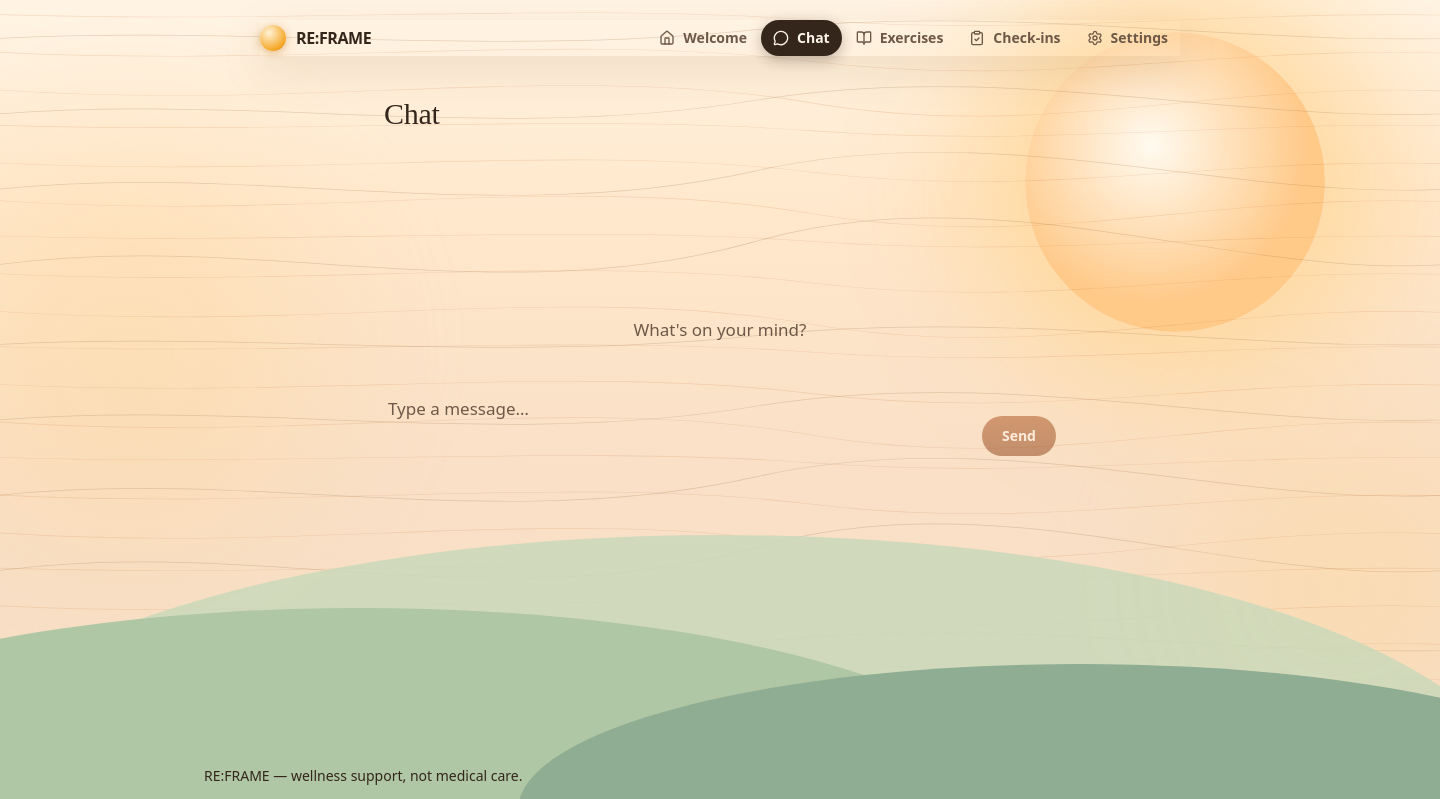
Test: AppShell › renders the Welcome page with its heading
The image size is (1440, 799).
Click the link "Welcome": (703, 38) [659,28,747,47]
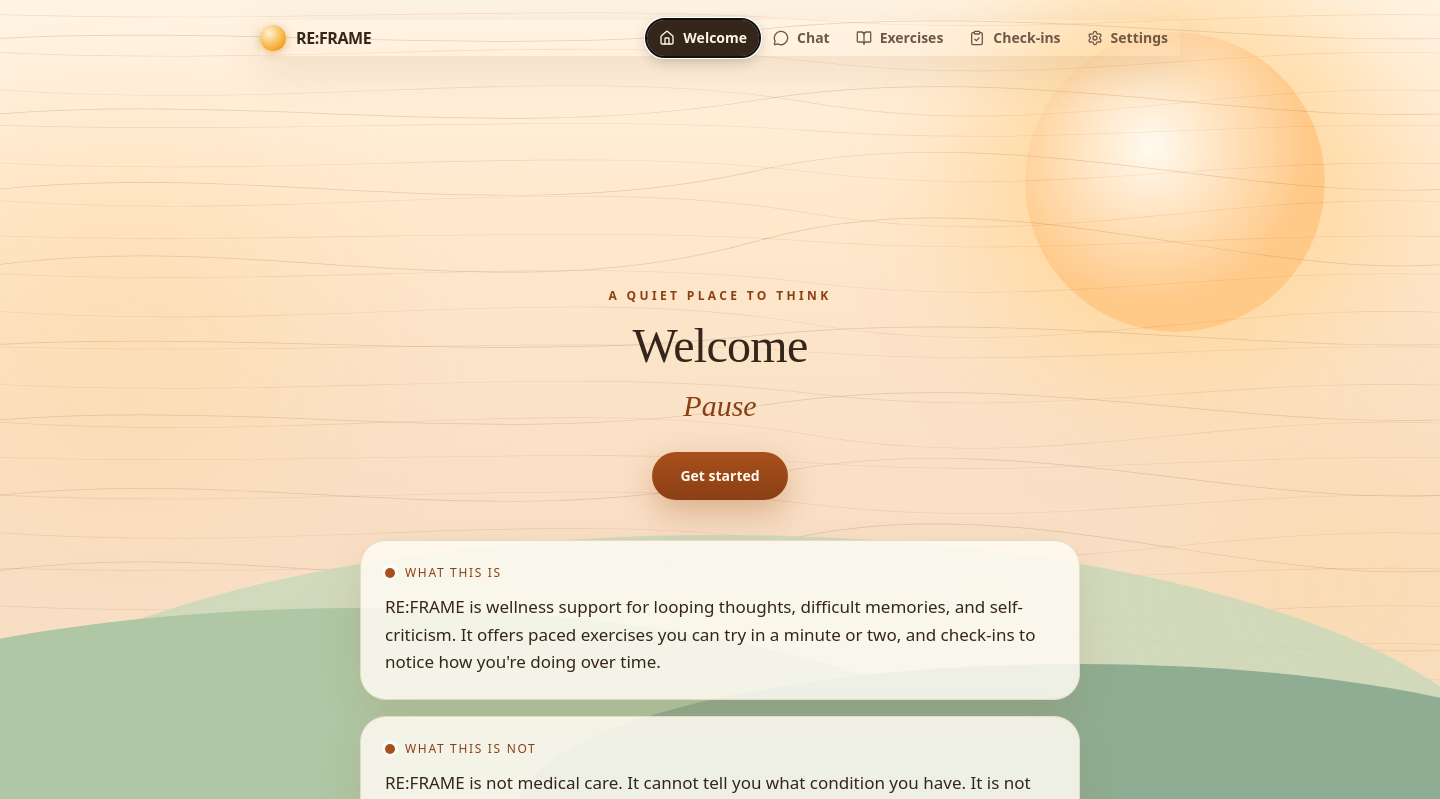
Expected: the heading "Welcome" is shown, [632,320,808,372]
